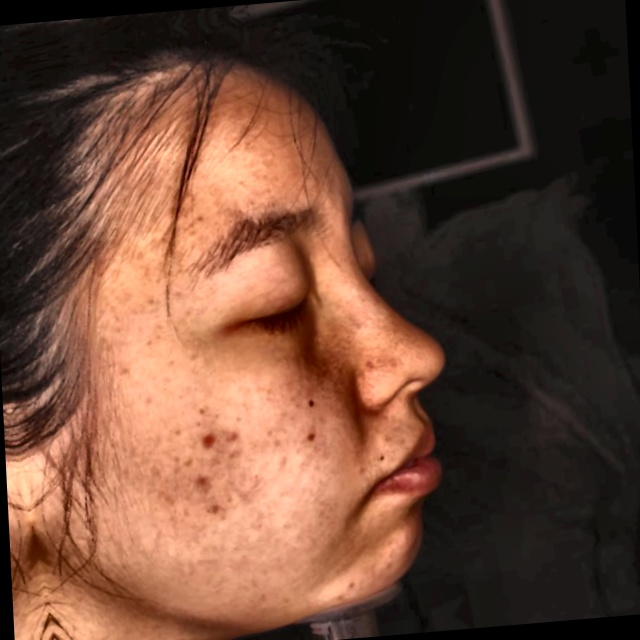comedone: (195, 427, 228, 456)
